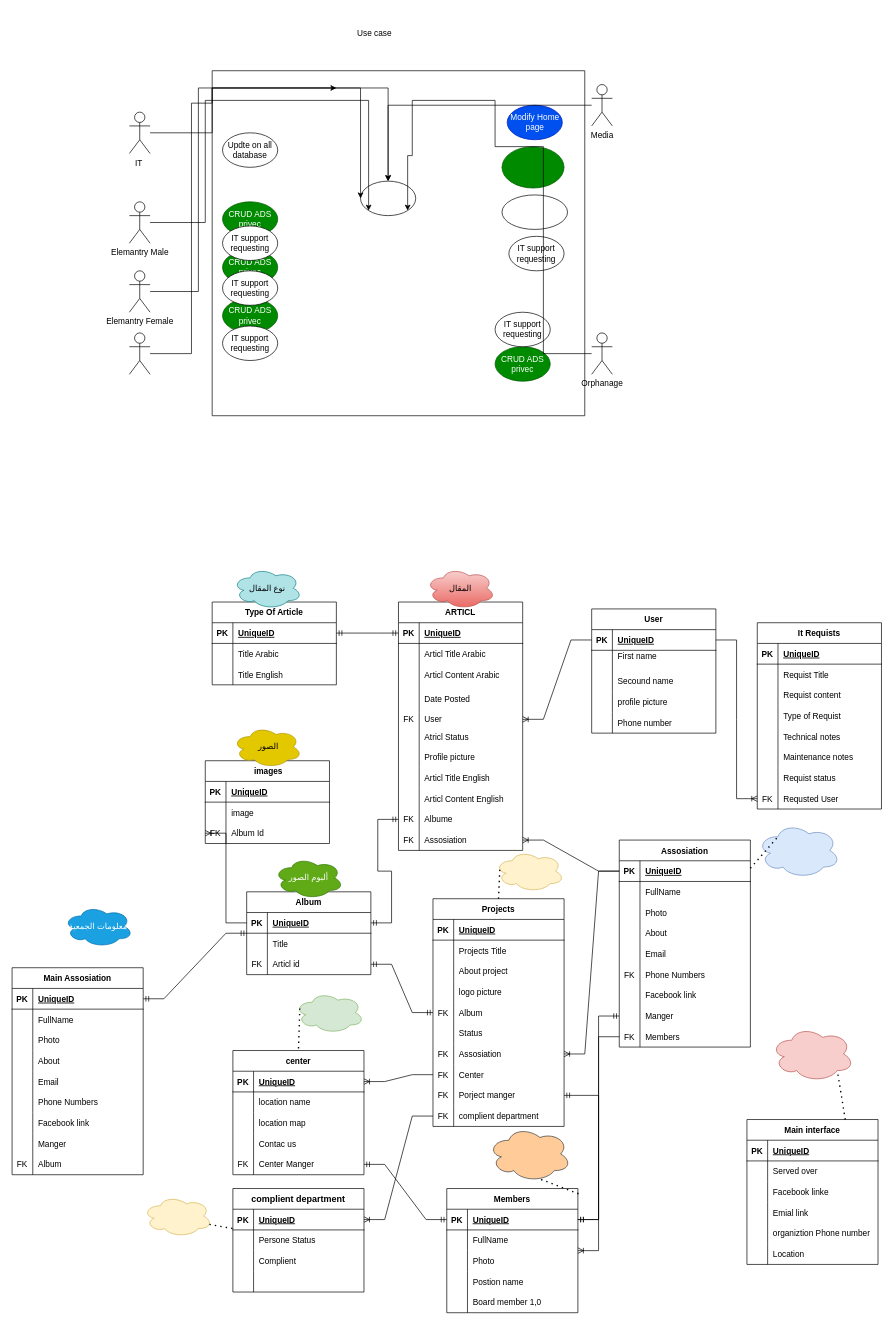
Some shapes in this 894 by 1325 pixel diagram are drawn without their labels. Each missing label, with the centre of its shape:
CRUD ADS puplic&privec: the point at 532,167
Log in: the point at 388,198
Priamry Sch: the point at 139,353
Update on orphange operations: the point at 534,211
أعضاء مجلس الإدارة: the point at 529,1154
الأفرع: the point at 798,850
الشكاوي: the point at 177,1216
المشاريع لكل فرع: the point at 529,871
الواجهة الاساسية: the point at 812,1054
مراكز المشروع: the point at 329,1012
